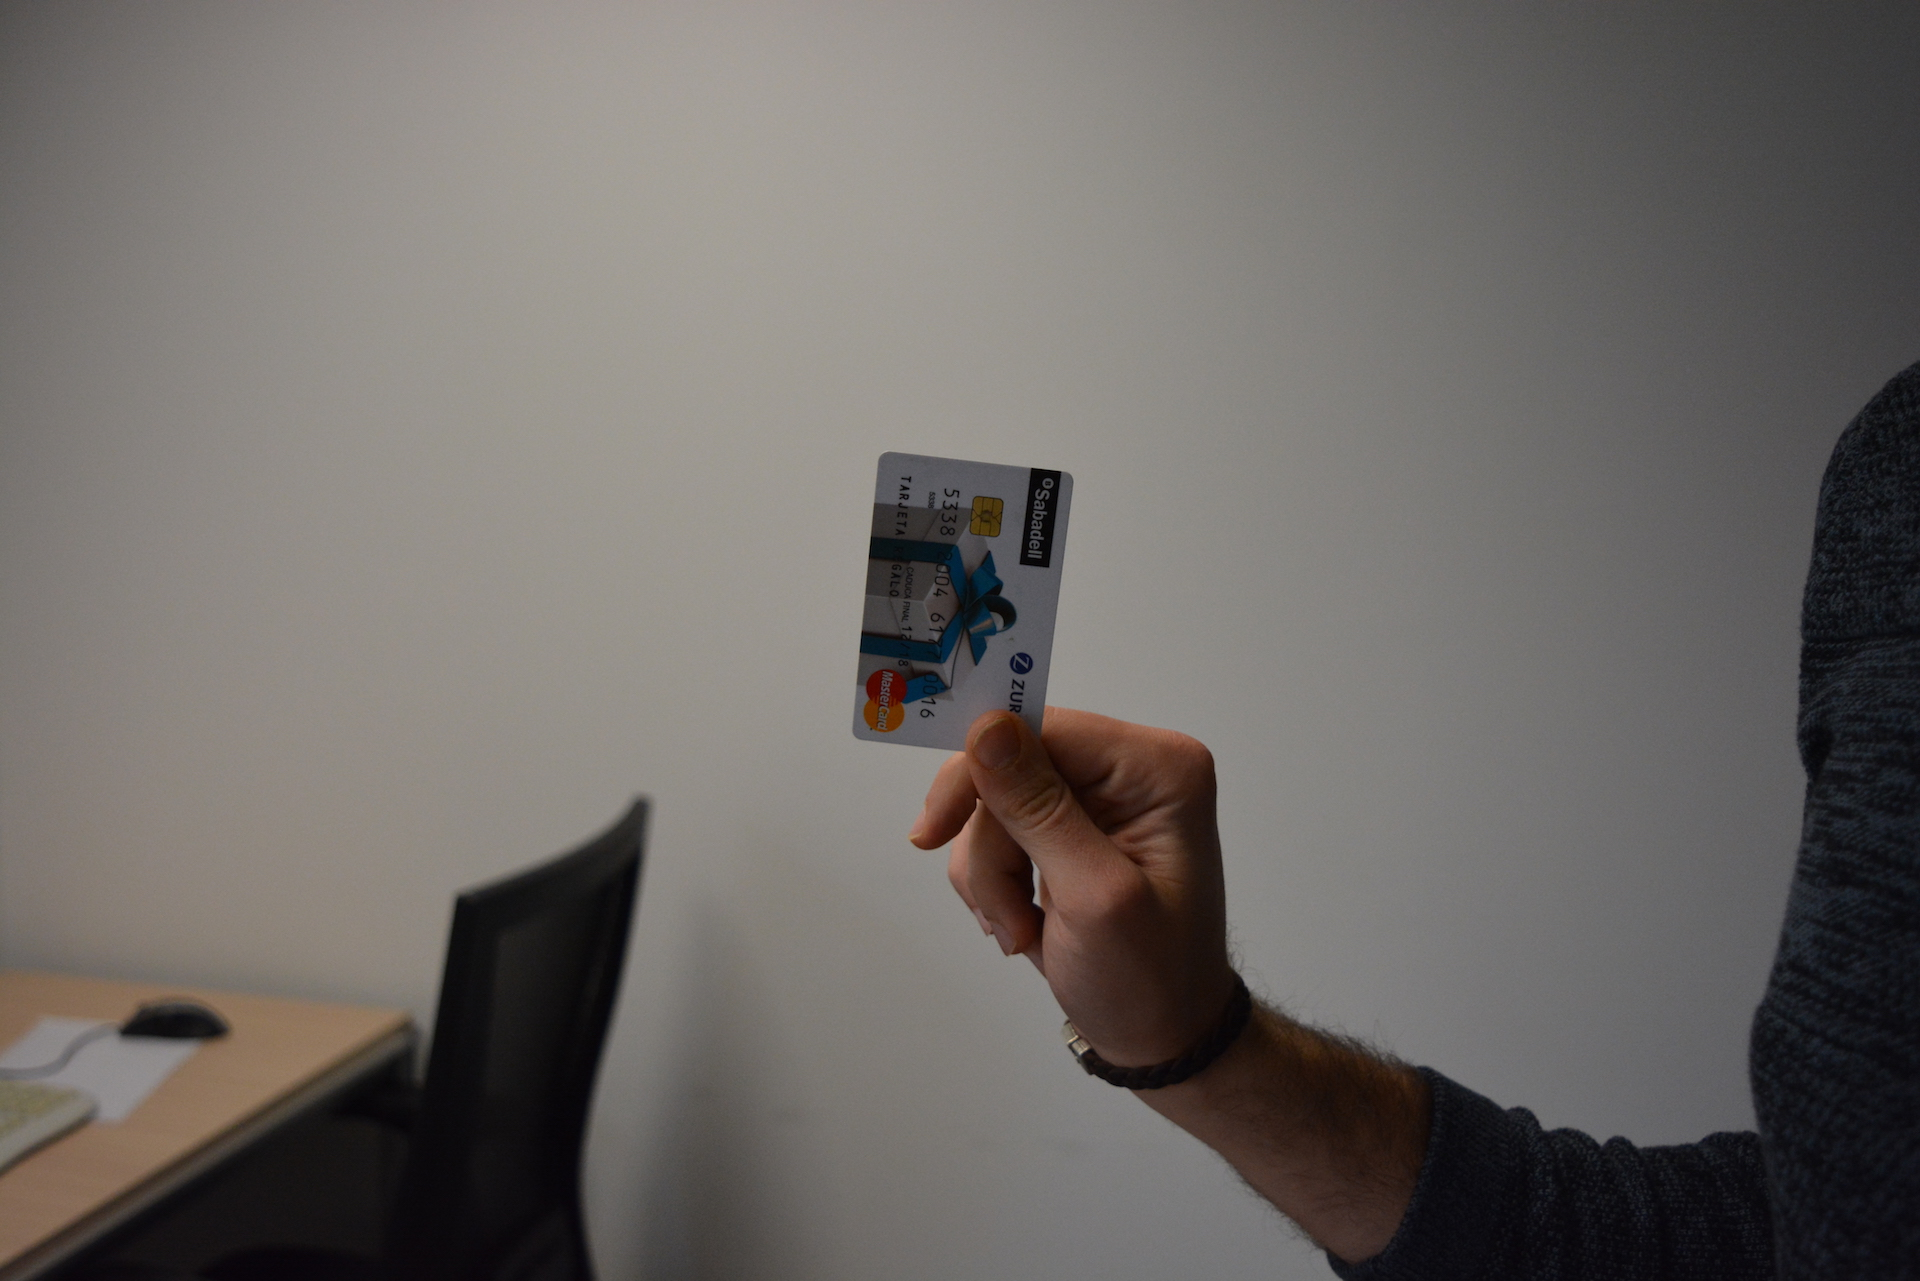tarjeta: (851, 450, 1077, 753)
